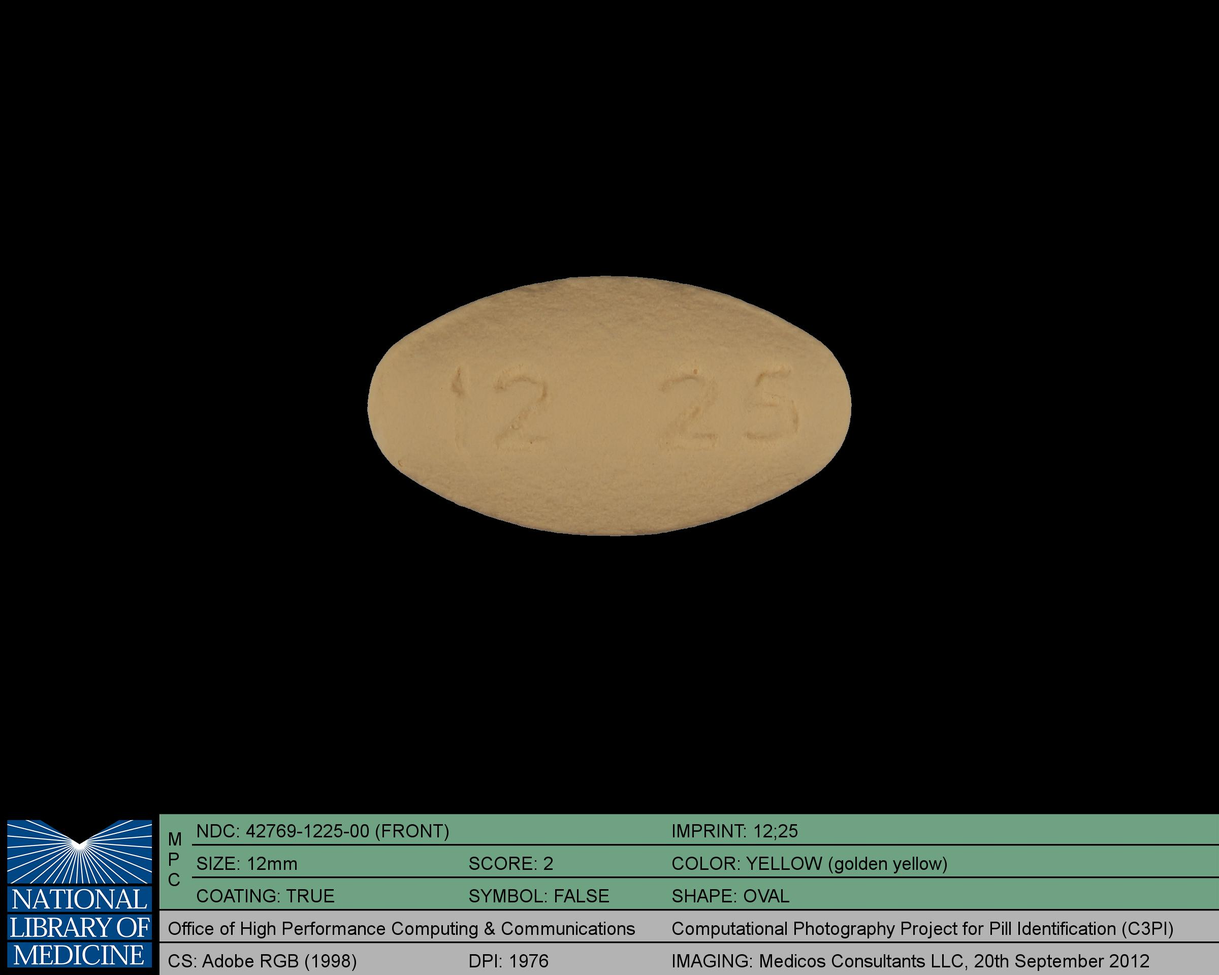Pill: (354, 261, 865, 548)
